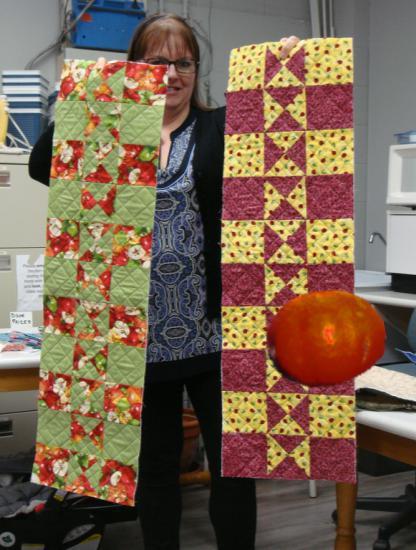Clementine: (260, 276, 386, 402)
